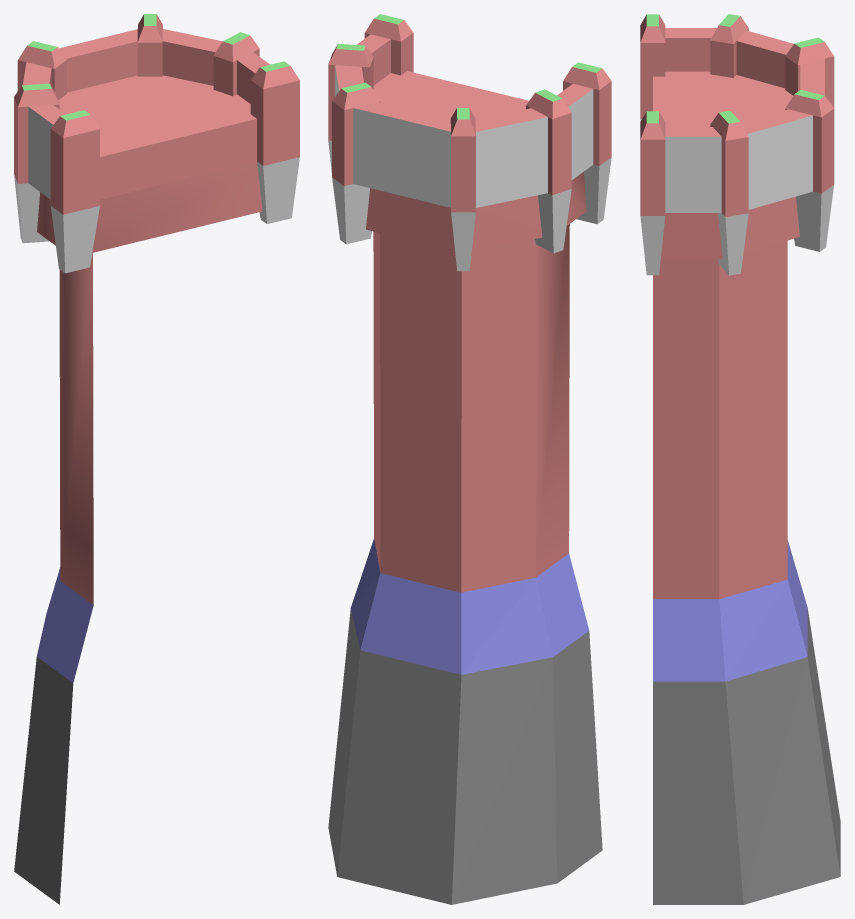
Rendered from L2fortress_02_s__fort02_wall_deco02.gltf.
3 renders of one model, left to right at view 1: azimuth 30°, elevation 25°; view 2: azimuth 150°, elevation 25°; view 3: azimuth 270°, elevation 25°, orthographic.
Visible parts, largest first — view 1: fort02_wall_deco02; view 2: fort02_wall_deco02; view 3: fort02_wall_deco02.
Boxes of the visible parts, x1,y1,x2,y2 form: fort02_wall_deco02: (14, 14, 299, 904); fort02_wall_deco02: (328, 14, 611, 904); fort02_wall_deco02: (640, 14, 840, 904).
Bounding box in the file's own units: 1.32 × 4.11 × 0.9568.
